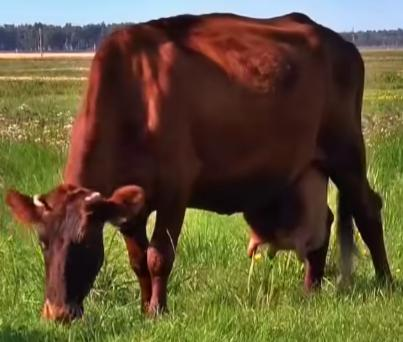cow: (8, 15, 394, 325)
